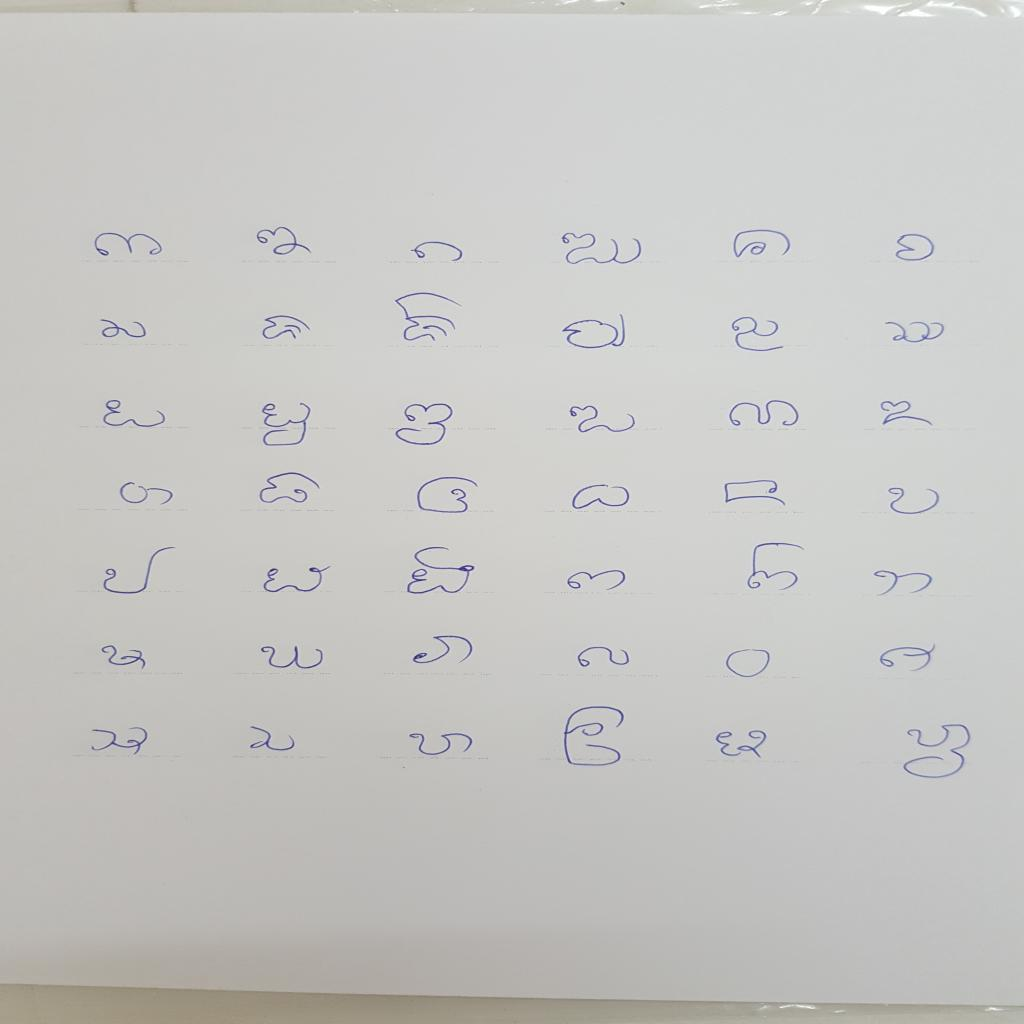LN001: (87, 230, 171, 261)
LN002: (248, 225, 318, 259)
LN003: (408, 239, 470, 267)
LN004: (553, 230, 649, 269)
LN007: (93, 317, 154, 343)
LN008: (256, 313, 317, 344)
LN009: (390, 291, 470, 346)
LN011: (727, 314, 791, 356)
LN014: (257, 400, 317, 450)
LN015: (392, 402, 459, 449)
LN017: (724, 398, 806, 431)
LN018: (873, 398, 940, 430)
LN024: (881, 483, 947, 519)
LN025: (95, 546, 179, 598)
LN026: (254, 561, 339, 597)
LN027: (400, 546, 483, 600)
LN028: (563, 568, 633, 596)
LN029: (740, 540, 812, 595)
LN031: (98, 642, 153, 675)
LN032: (256, 643, 330, 673)
LN033: (408, 633, 480, 670)
LN035: (720, 646, 778, 682)
LN036: (875, 641, 943, 676)
LN037: (84, 725, 154, 760)
